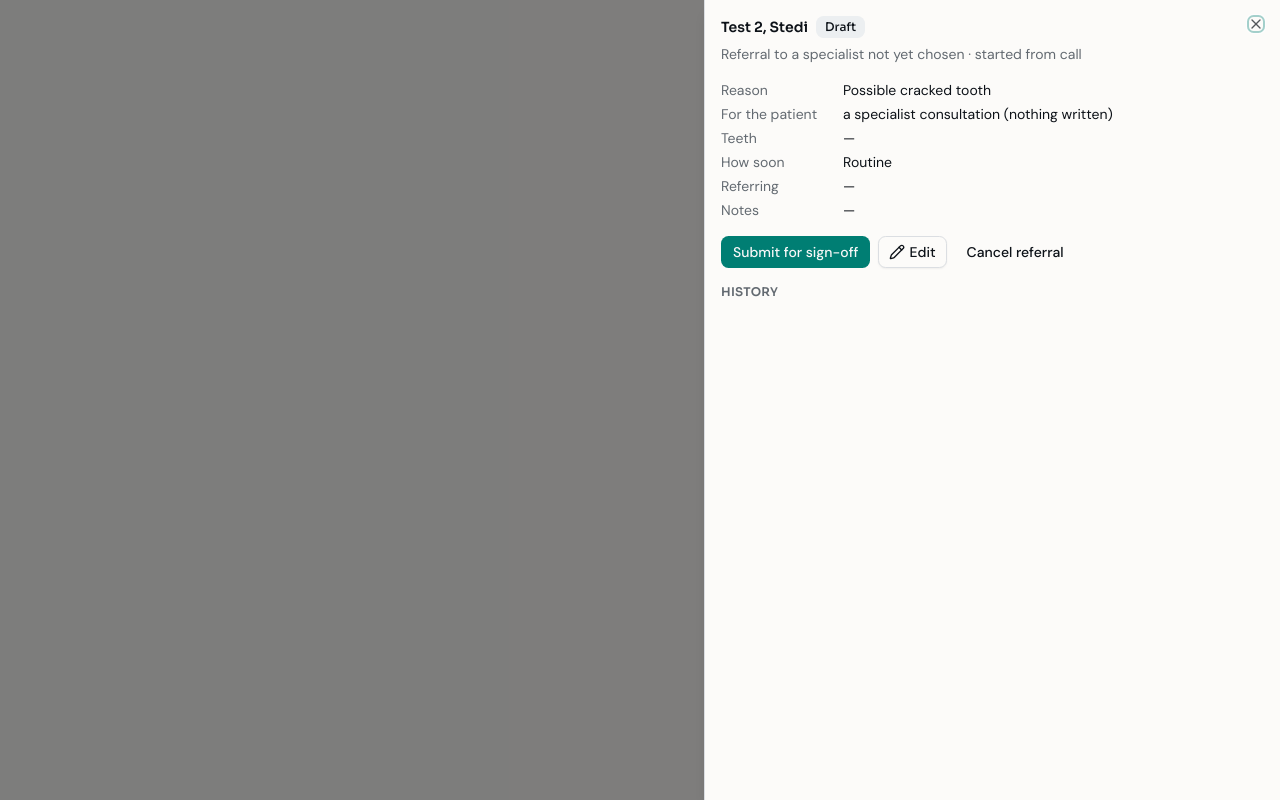
Test case: the detail panel's moves › a refused move leaves the referral as it was and says why
Expected: the element with test id "tc-hub-actions" is shown, [721,236,1076,268]
Click the button with test id "tc-hub-submit" at (796, 252), box [721,236,870,268]
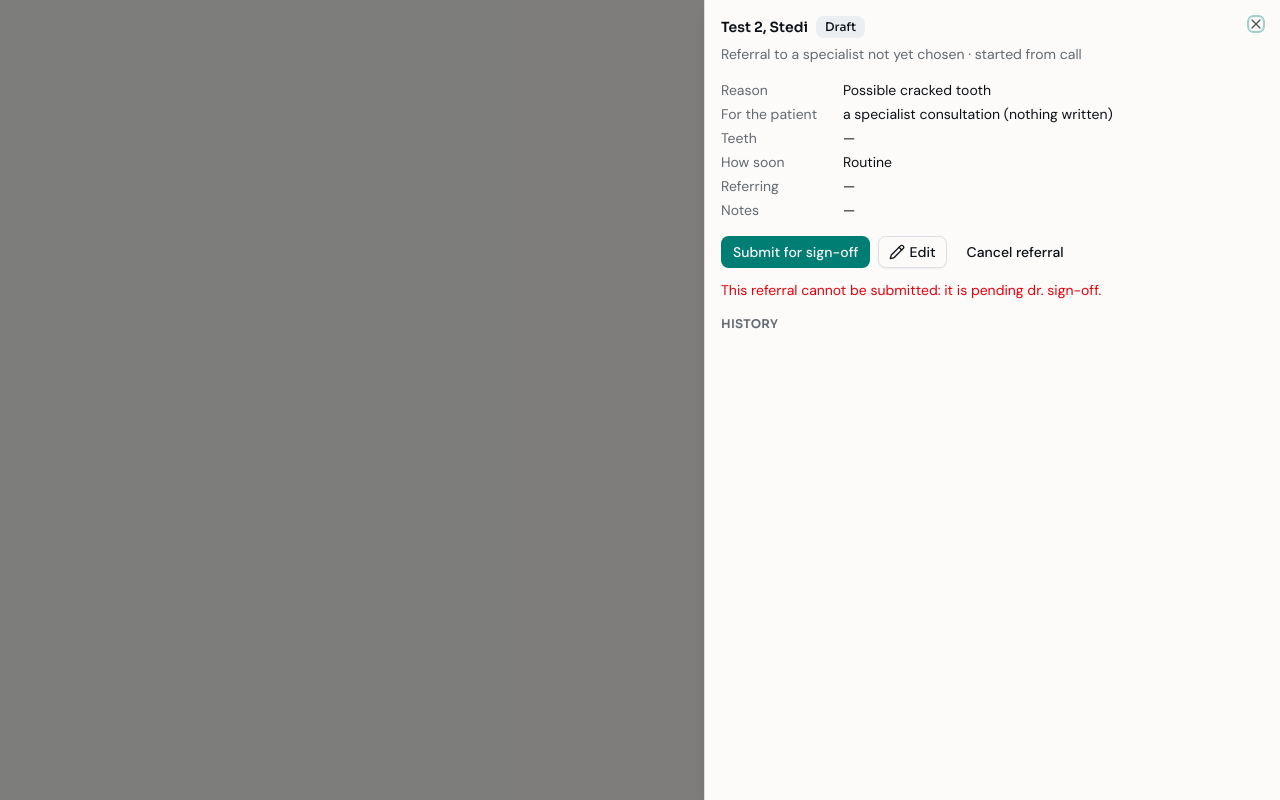
Expected: the text with test id "tc-referral-status" reads "Draft", [825,19,856,34]
Expected: the text "This referral cannot be submitted: it is pending dr. sign-off." is shown, [721,281,1101,299]
